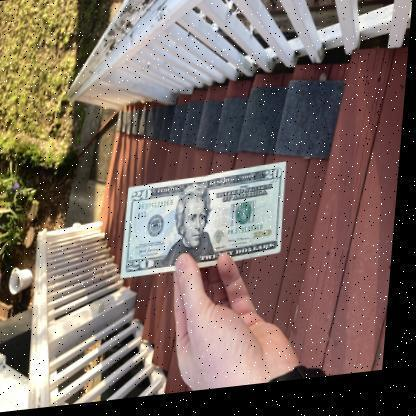twenty-front: (125, 167, 290, 281)
